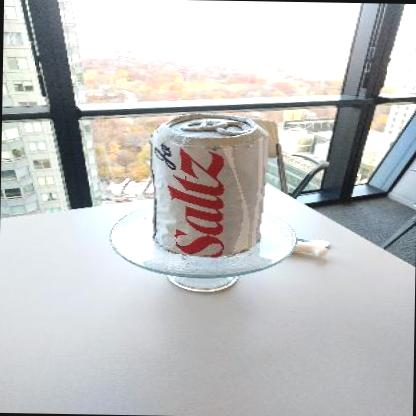alumunium_can: (148, 113, 272, 264)
